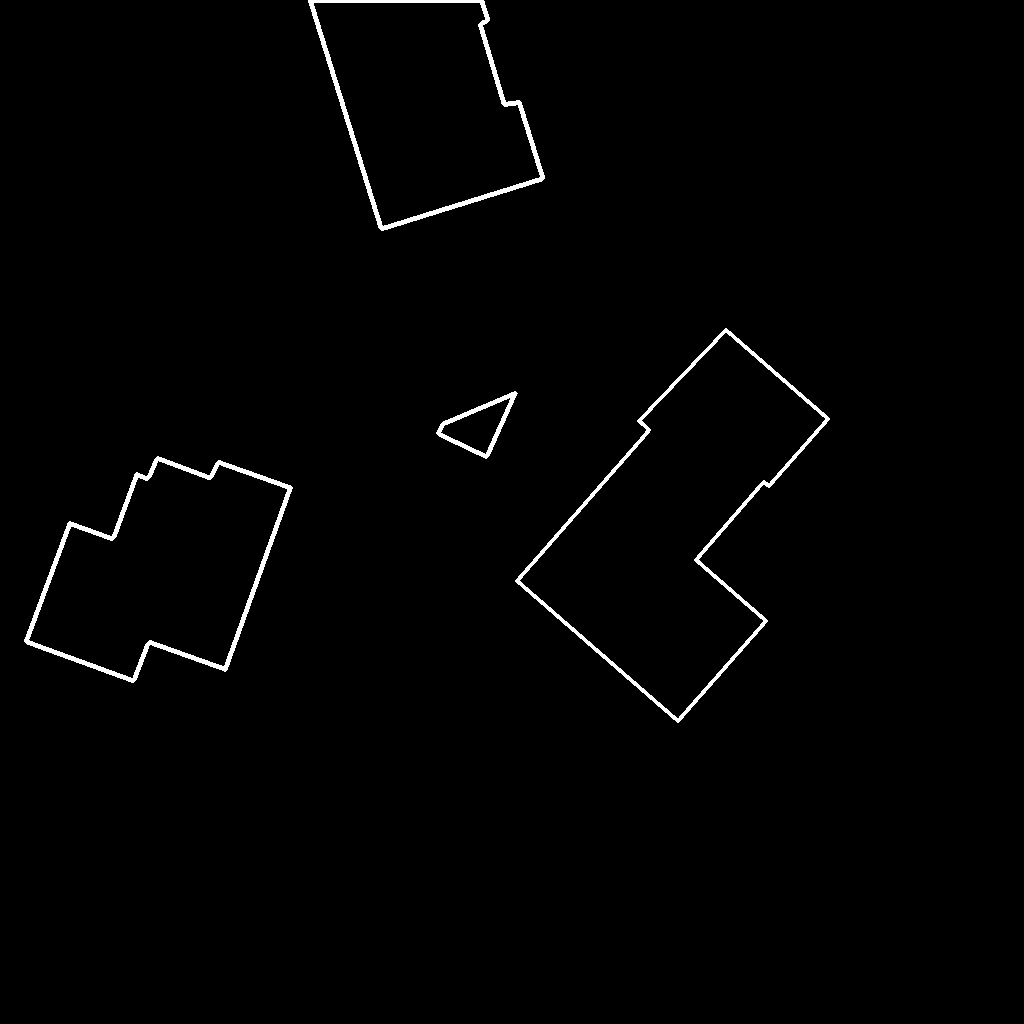building: (517, 330, 829, 722), (26, 458, 292, 682), (310, 0, 544, 230), (438, 393, 517, 458)
